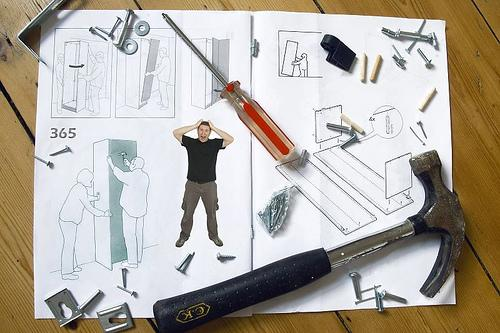hammer: (151, 147, 466, 332)
